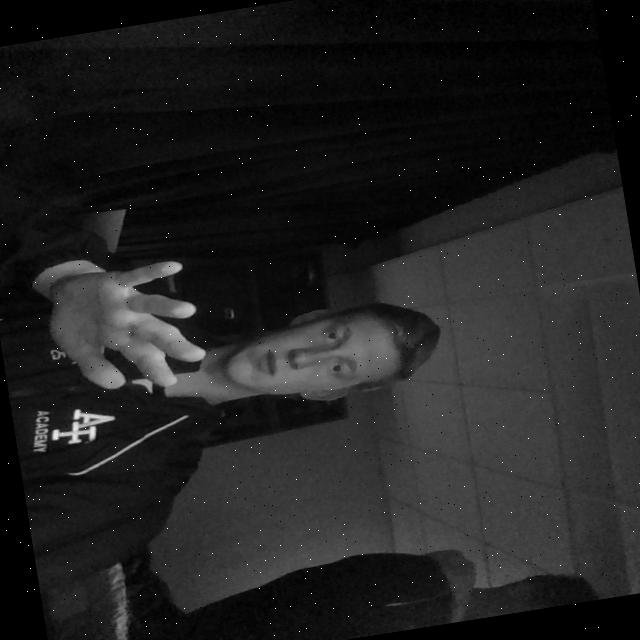paper: (36, 251, 218, 412)
